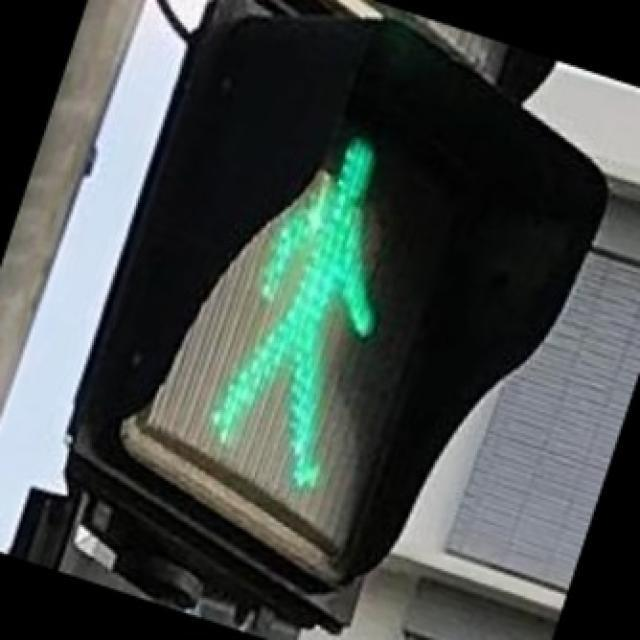geen-crossing: (115, 69, 523, 564)
